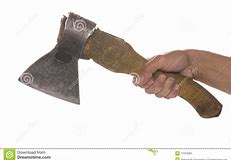axe: (16, 10, 226, 120)
